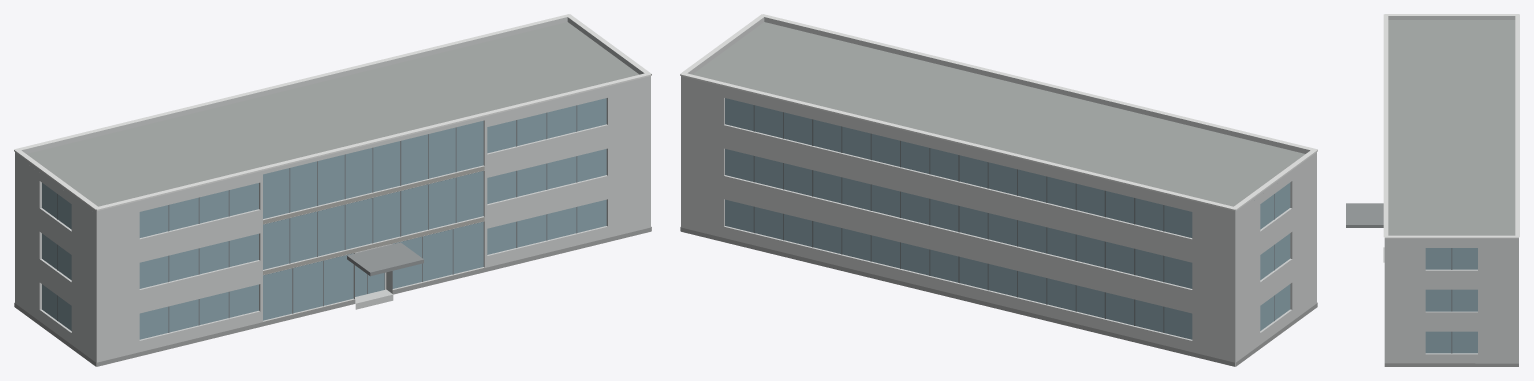
3 renders of one model, left to right at view 1: azimuth 30°, elevation 25°; view 2: azimuth 150°, elevation 25°; view 3: azimuth 270°, elevation 25°, orthographic. The views are drawn at different scales.
Parts seen in each view (by area): view 1: b115951773__glass, b115951773__wall, b115951773__roof, b115951773__parapet, b115951773__trim, b115951773__base, b115951773__frame, b115951773__spandrel, b115951773__canopy; view 2: b115951773__wall, b115951773__glass, b115951773__roof, b115951773__parapet, b115951773__trim, b115951773__base, b115951773__frame; view 3: b115951773__roof, b115951773__wall, b115951773__glass, b115951773__trim, b115951773__parapet, b115951773__canopy, b115951773__base.
Part boxes in pixels (left/top/right/bottom): b115951773__glass: left=42, top=98, right=606, bottom=339; b115951773__wall: left=15, top=79, right=650, bottom=366; b115951773__roof: left=27, top=22, right=638, bottom=366; b115951773__parapet: left=15, top=17, right=650, bottom=214; b115951773__trim: left=14, top=14, right=651, bottom=210; b115951773__base: left=14, top=227, right=651, bottom=366; b115951773__frame: left=57, top=105, right=577, bottom=332; b115951773__spandrel: left=263, top=166, right=484, bottom=321; b115951773__canopy: left=347, top=242, right=423, bottom=276; b115951773__wall: left=681, top=79, right=1316, bottom=366; b115951773__glass: left=725, top=98, right=1290, bottom=339; b115951773__roof: left=692, top=22, right=1305, bottom=366; b115951773__parapet: left=681, top=17, right=1316, bottom=214; b115951773__trim: left=680, top=14, right=1317, bottom=210; b115951773__base: left=680, top=227, right=1317, bottom=366; b115951773__frame: left=753, top=105, right=1274, bottom=332; b115951773__roof: left=1388, top=20, right=1515, bottom=235; b115951773__wall: left=1384, top=241, right=1518, bottom=363; b115951773__glass: left=1425, top=248, right=1477, bottom=353; b115951773__trim: left=1383, top=14, right=1519, bottom=238; b115951773__parapet: left=1384, top=16, right=1518, bottom=241; b115951773__canopy: left=1346, top=203, right=1383, bottom=227; b115951773__base: left=1384, top=363, right=1518, bottom=366.
Size of the model in its own units: 41.27 by 11.55 by 13.56.
